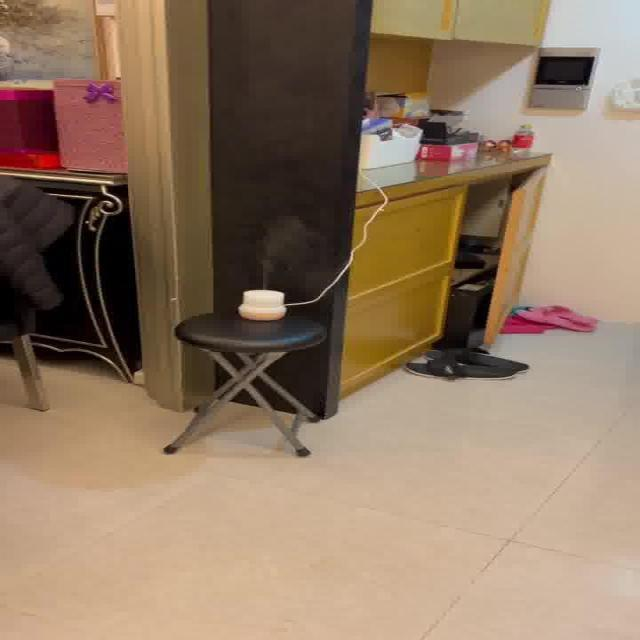fire: (248, 215, 317, 284)
